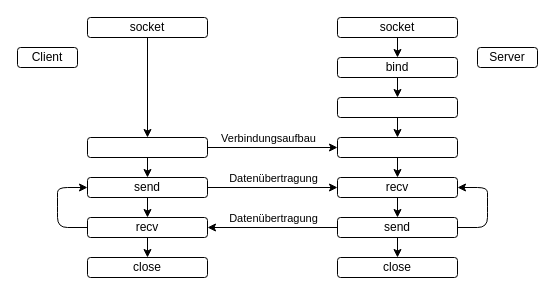
Image size: 555x295. Some labels were removed from this diagram. The box of each missing label's shape, as (x1, y1, x2, y2) in pixels:
accept: (336, 136, 458, 158)
connect: (86, 136, 208, 158)
listen: (336, 96, 458, 118)
